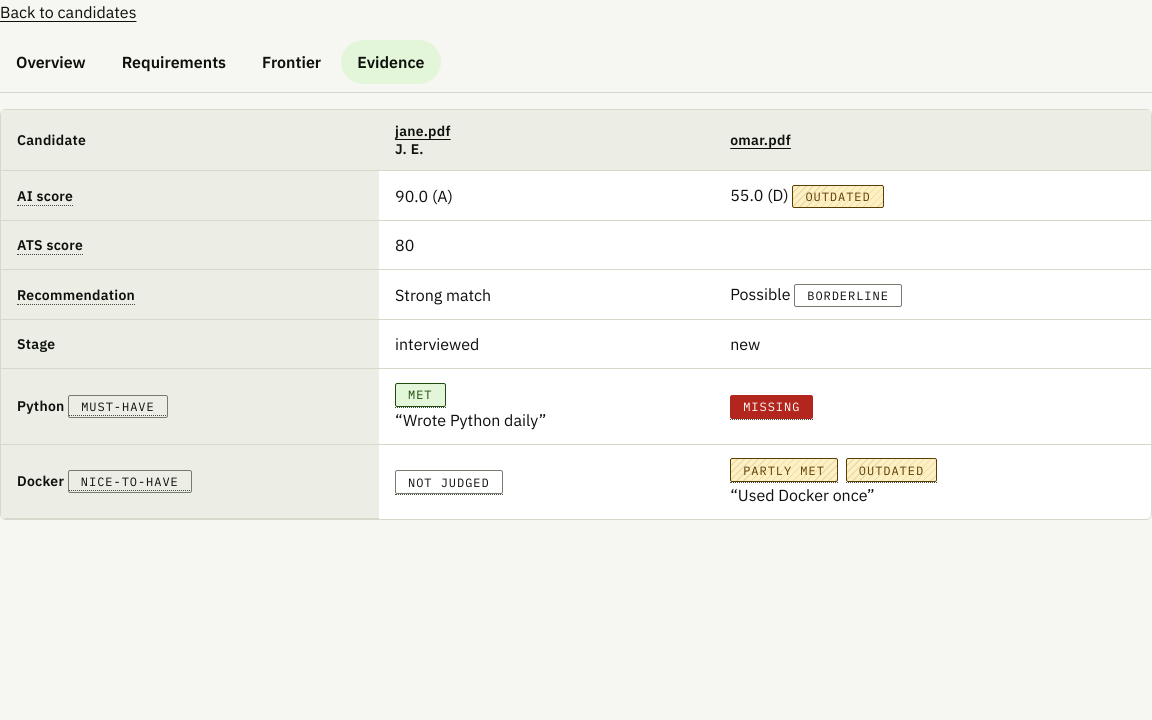
Test: side by side › says so in the popup when no words are quoted
Step 1. Click the button with aria-label "omar.pdf: Python" → (772, 406), box [730,393,813,420]
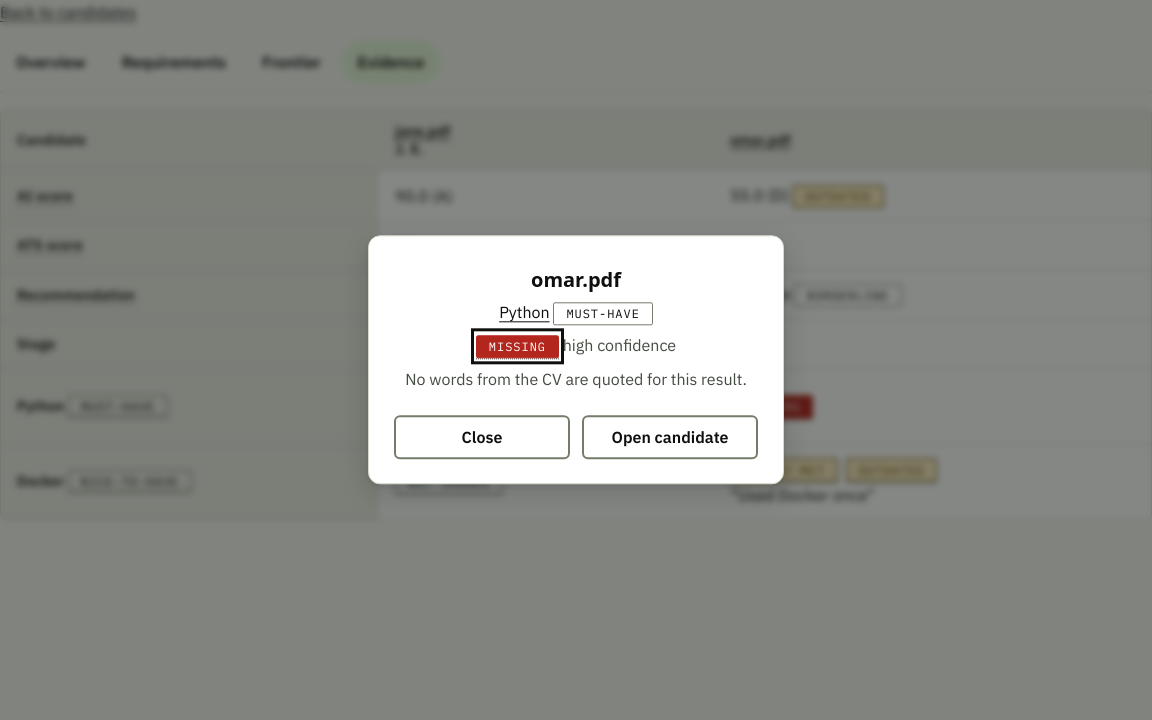
Result: the text "No words from the CV are quoted for this result." is shown at [393,368,759,392]
